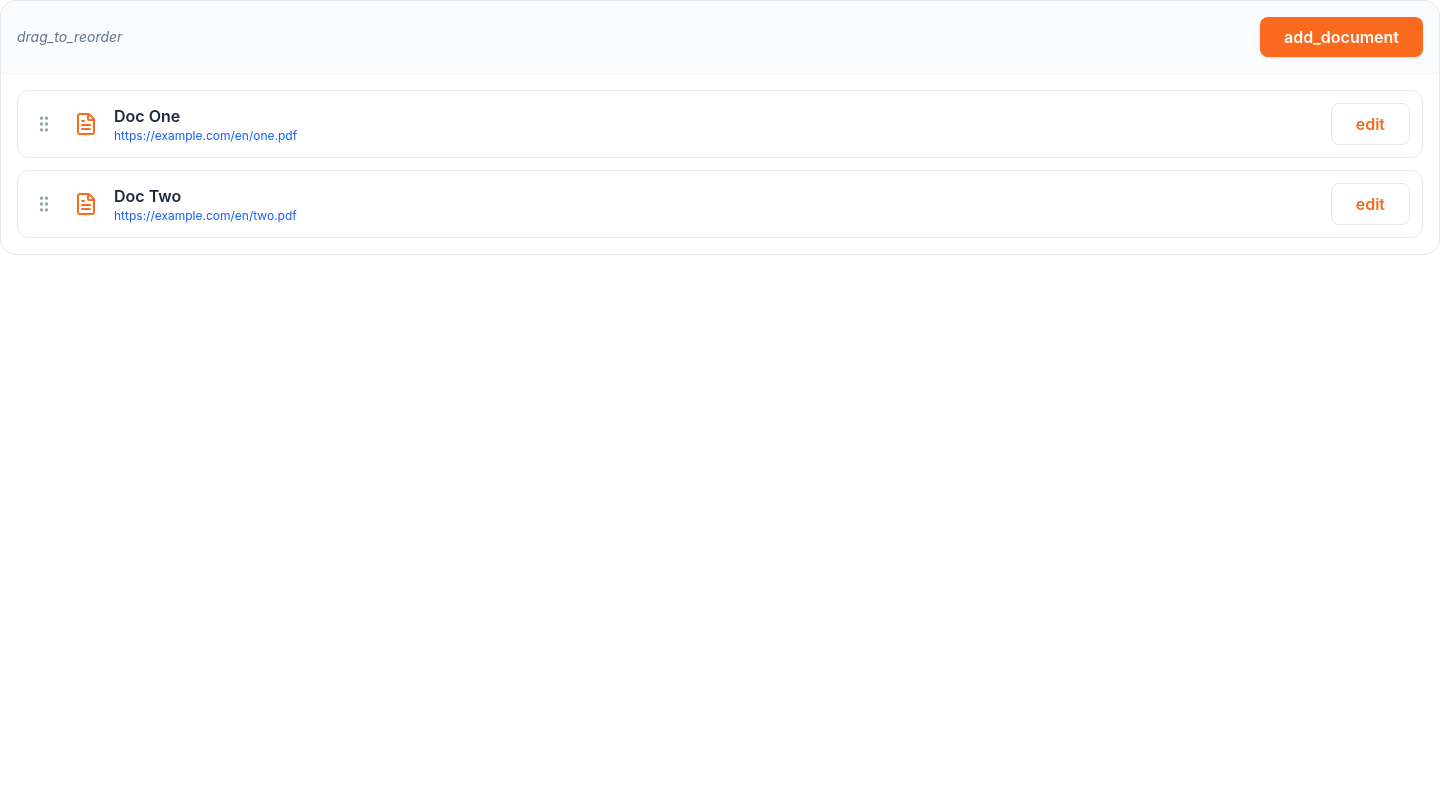
Test: ManageRegistrationDocumentsDatatable › closes the edit modal without saving when dismissed
Expected: the heading "Doc One" is shown, [114, 106, 180, 126]
Click the button "edit" in the row of "https://example.com/en/one.pdf" at {"x": 1370, "y": 124}, box [1331, 103, 1410, 145]
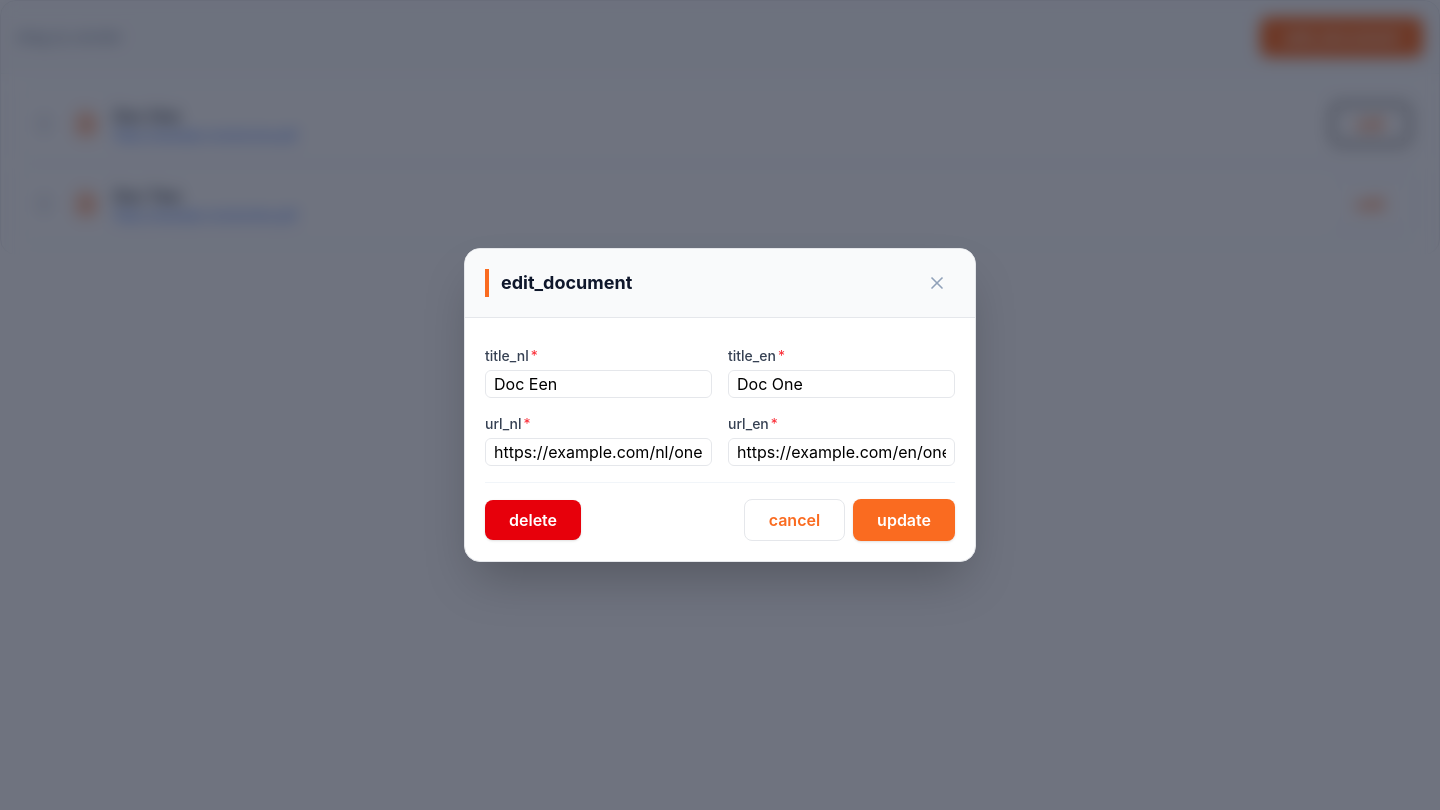
Result: the heading "edit_document" is shown at [485, 269, 632, 297]
Press Escape
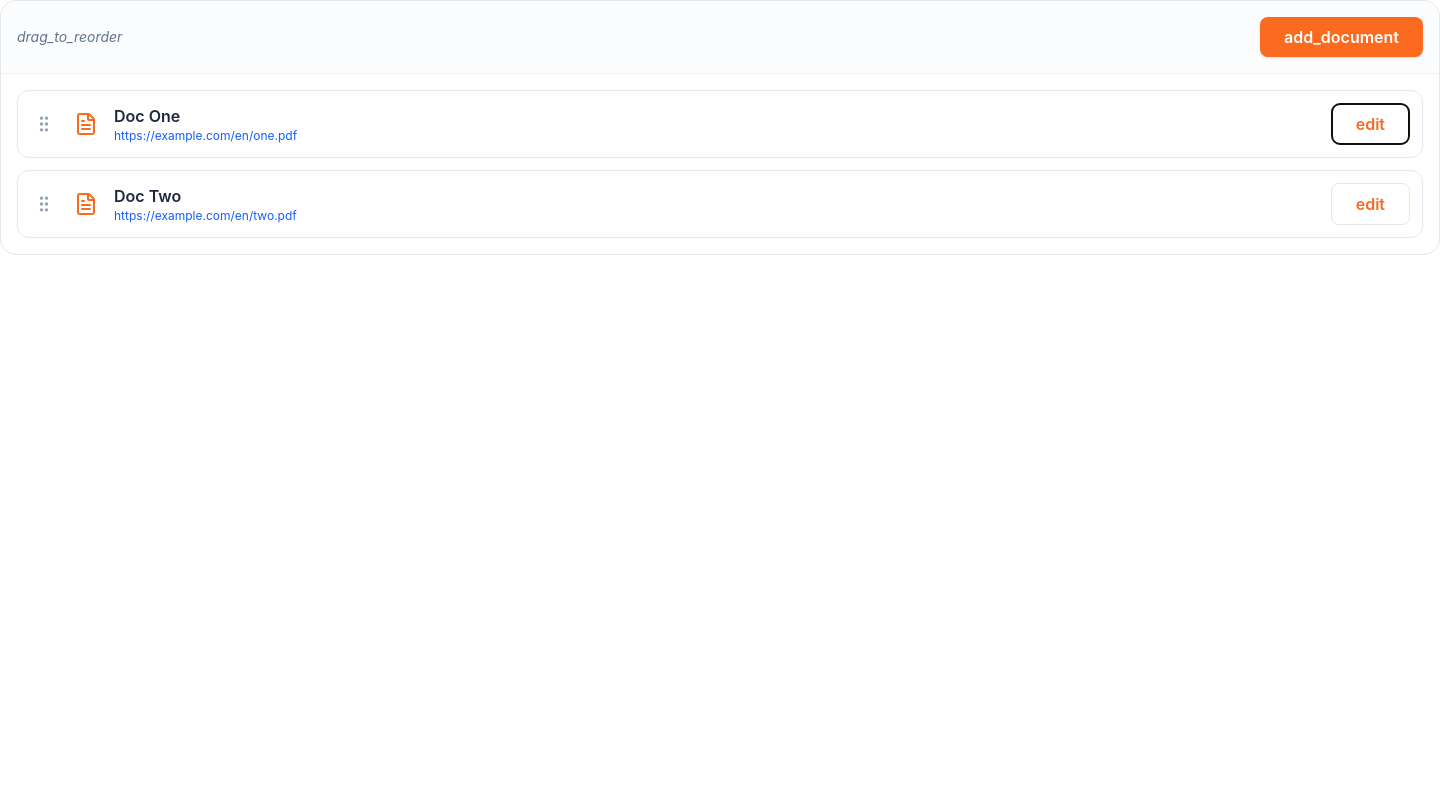
Result: the heading "edit_document" is gone
